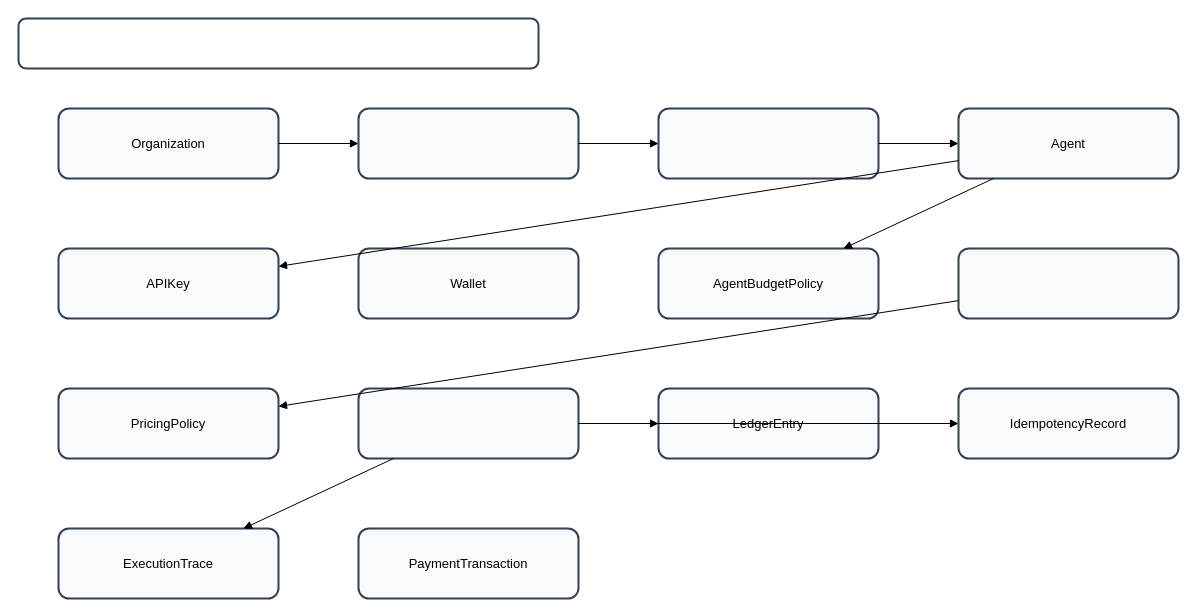
Image size: 1196x616. Some labels were removed from this diagram. Each missing label, with the box of its shape:
AIModel: (957, 247, 1179, 319)
DeveloperProfile: (657, 107, 879, 179)
FinancialTransaction: (357, 387, 579, 459)
Thực thể lõi: (17, 17, 539, 69)
User: (357, 107, 579, 179)
